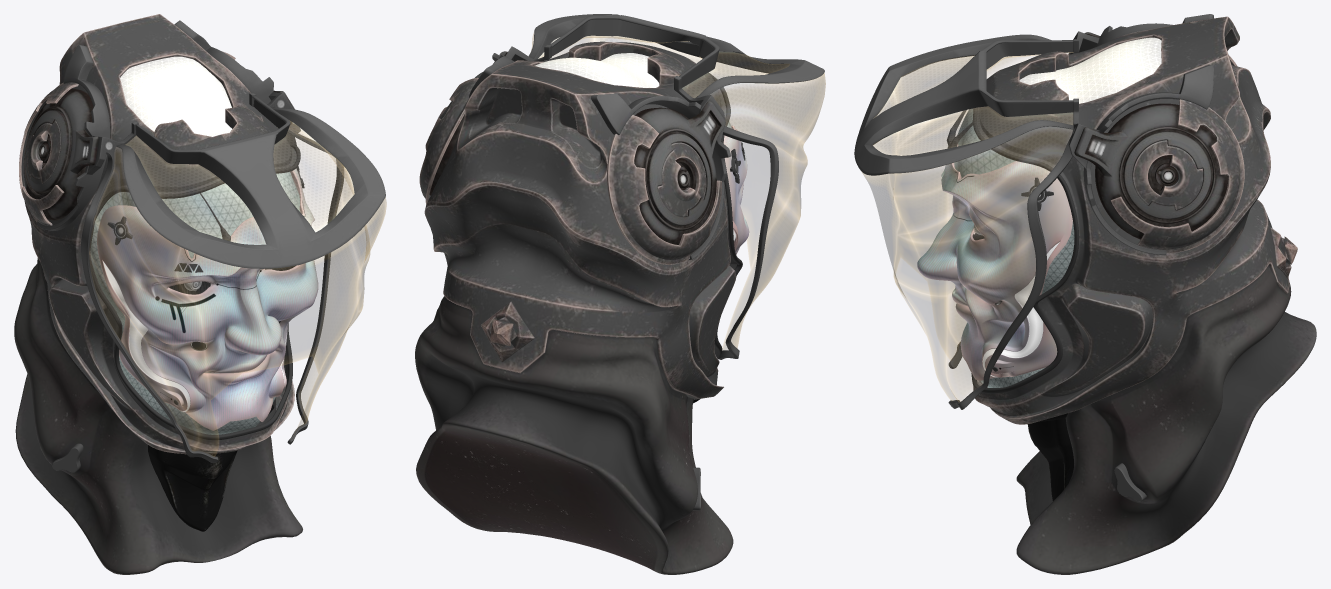
Rendered from spectra-noir.glb.
3 renders of one model, left to right at view 1: azimuth 30°, elevation 25°; view 2: azimuth 150°, elevation 25°; view 3: azimuth 270°, elevation 25°, orthographic. The views are drawn at different scales.
Parts seen in each view (by area): view 1: Object_5, Object_6, Object_2, Object_15, Object_7, Object_14, Object_10, Object_8, Object_12, Object_9, Object_16, Object_11 (+1 smaller); view 2: Object_15, Object_6, Object_5, Object_14, Object_7, Object_8, Object_11, Object_10, Object_12, Object_2, Object_16, Object_9 (+1 smaller); view 3: Object_15, Object_6, Object_5, Object_2, Object_7, Object_13, Object_12, Object_9, Object_10, Object_14, Object_16, Object_8.
Boxes of the visible parts, <box> form: Object_5: <box>89,120,386,456</box>; Object_6: <box>14,258,302,574</box>; Object_2: <box>97,168,318,430</box>; Object_15: <box>24,14,296,454</box>; Object_7: <box>116,95,385,268</box>; Object_14: <box>19,82,98,225</box>; Object_10: <box>120,56,232,136</box>; Object_8: <box>36,45,218,462</box>; Object_12: <box>90,51,300,434</box>; Object_9: <box>174,20,344,444</box>; Object_16: <box>90,145,300,440</box>; Object_11: <box>27,120,60,182</box>; Object_15: <box>424,41,737,399</box>; Object_6: <box>415,296,733,574</box>; Object_5: <box>531,33,825,349</box>; Object_14: <box>438,101,725,264</box>; Object_7: <box>480,14,824,361</box>; Object_8: <box>591,76,778,359</box>; Object_11: <box>657,142,706,216</box>; Object_10: <box>534,53,659,87</box>; Object_12: <box>419,77,731,204</box>; Object_2: <box>723,125,749,254</box>; Object_16: <box>708,72,742,356</box>; Object_9: <box>469,45,551,97</box>; Object_15: <box>973,16,1289,424</box>; Object_6: <box>1016,265,1316,574</box>; Object_5: <box>862,52,1073,402</box>; Object_2: <box>917,141,1072,380</box>; Object_7: <box>854,34,1297,278</box>; Object_13: <box>1074,103,1227,239</box>; Object_12: <box>954,99,1244,387</box>; Object_9: <box>948,65,1213,409</box>; Object_10: <box>1019,37,1161,103</box>; Object_14: <box>1084,32,1237,210</box>; Object_16: <box>971,107,1079,393</box>; Object_8: <box>948,14,1213,368</box>.
Bounding box in the file's own units: 0.2324 × 0.4038 × 0.3409.
Materials: 4 (4 with a texture image).
